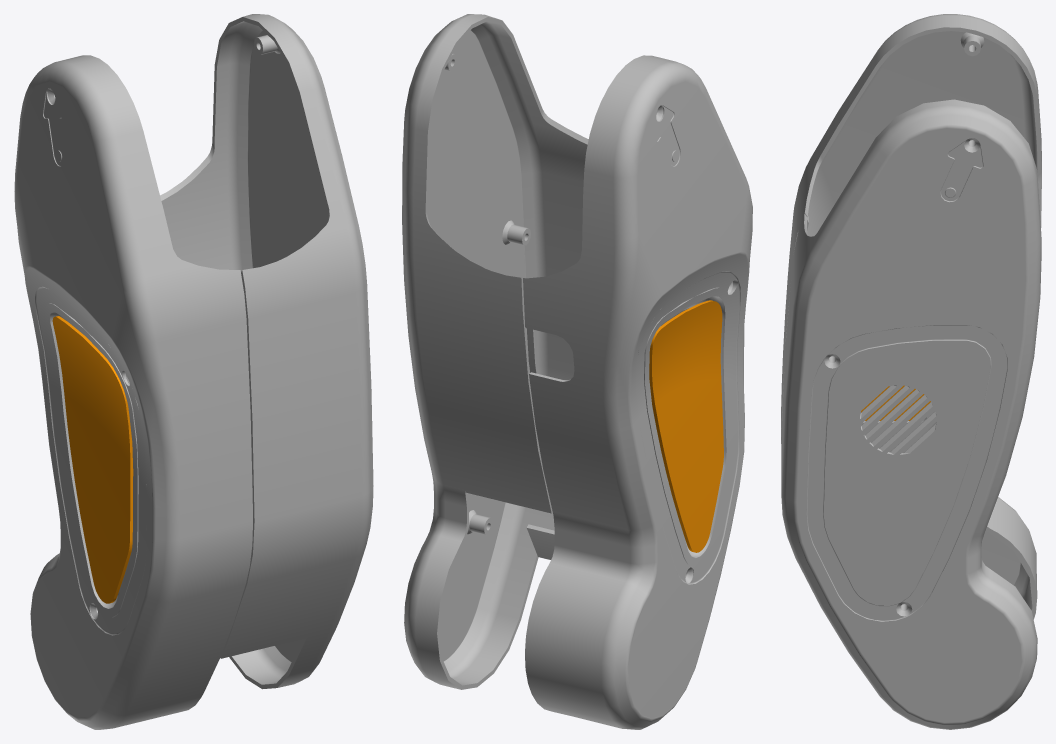
File: RUpperLeg.obj
3 renders of one model, left to right at view 1: azimuth 30°, elevation 25°; view 2: azimuth 150°, elevation 25°; view 3: azimuth 270°, elevation 25°, orthographic. The views are drawn at different scales.
Bounding box in the file's own units: 0.1529 × 0.4021 × 0.1525.
